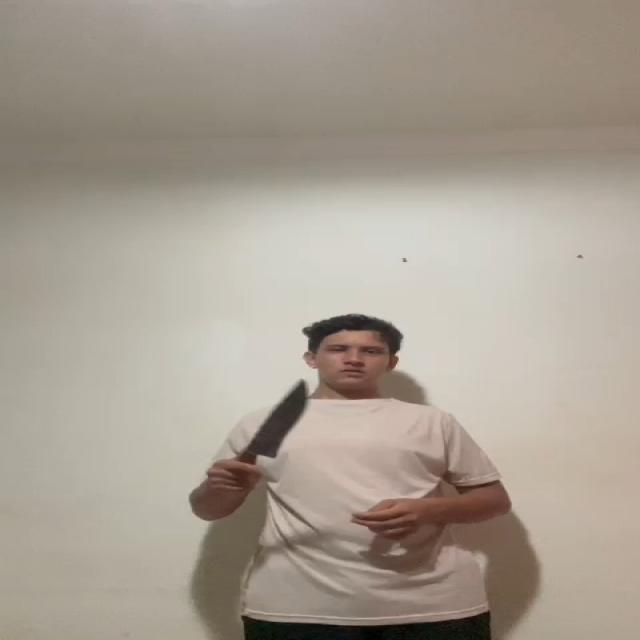knife: (247, 381, 308, 455)
